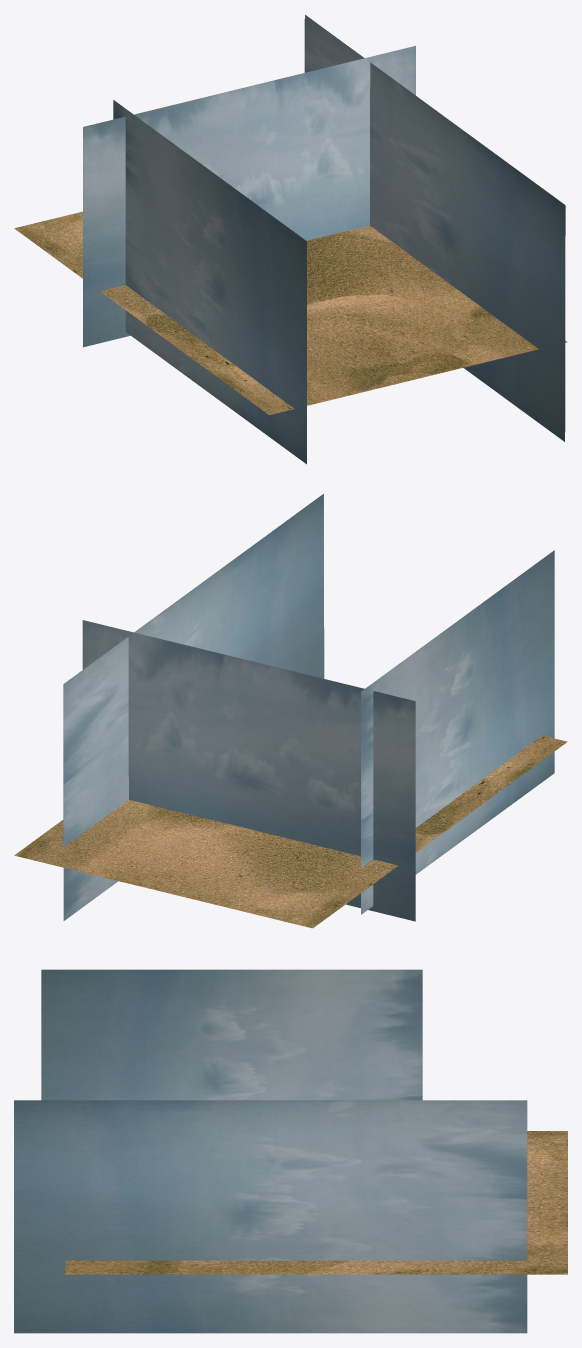
The model's file is haikei.fbx.
The picture shows the model from 3 angles, top to bottom: view 1: azimuth 30°, elevation 25°; view 2: azimuth 150°, elevation 25°; view 3: azimuth 270°, elevation 25°; orthographic projection.
Parts seen in each view (by area): view 1: Plane003, Plane004, Plane002, Plane001; view 2: Plane002, Plane004, Plane003, Plane001; view 3: Plane003, Plane004, Plane001.
Part boxes in pixels (bbox=[...]): Plane003: bbox=[304, 15, 565, 441]; Plane004: bbox=[113, 100, 306, 464]; Plane002: bbox=[83, 46, 415, 347]; Plane001: bbox=[14, 211, 567, 414]; Plane002: bbox=[82, 620, 415, 921]; Plane004: bbox=[361, 550, 554, 914]; Plane003: bbox=[63, 493, 324, 920]; Plane001: bbox=[14, 735, 567, 928]; Plane003: bbox=[14, 1100, 527, 1333]; Plane004: bbox=[41, 969, 422, 1100]; Plane001: bbox=[65, 1131, 567, 1274].
Size of the model in its own units: 1283 by 1878 by 922.
